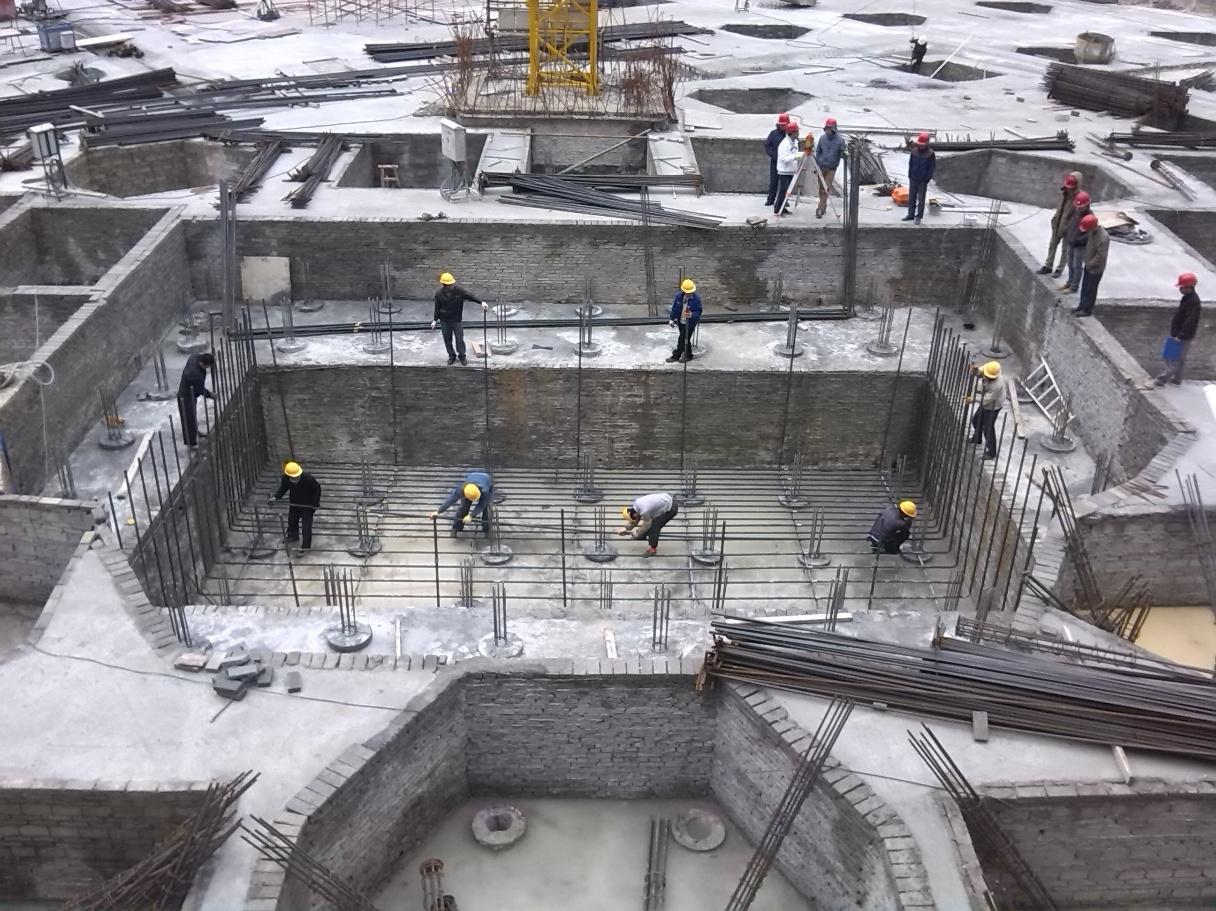helmet: (1165, 260, 1198, 390), (1170, 267, 1200, 293), (901, 497, 923, 520), (617, 508, 642, 528), (983, 360, 1002, 384), (439, 270, 463, 286), (781, 122, 809, 135), (1075, 184, 1092, 205), (914, 132, 939, 145), (465, 481, 483, 499), (286, 459, 304, 476), (1058, 171, 1076, 188), (677, 277, 694, 294), (1079, 213, 1100, 226), (776, 110, 795, 124), (816, 118, 840, 126)
no-helmet: (192, 349, 217, 369)
no-vest: (286, 475, 322, 512), (443, 284, 471, 324), (1084, 230, 1110, 272), (677, 286, 702, 325), (1177, 301, 1200, 342), (910, 150, 935, 187), (877, 509, 900, 541), (184, 357, 202, 395), (782, 142, 802, 176), (823, 134, 843, 168), (639, 493, 671, 513), (985, 373, 1003, 405), (1070, 211, 1088, 239), (1056, 198, 1070, 230), (465, 471, 490, 488), (768, 135, 781, 153)
person: (426, 264, 506, 379), (259, 450, 332, 554), (618, 477, 695, 572), (660, 263, 722, 363), (154, 344, 211, 452), (430, 464, 505, 545), (956, 340, 1016, 439), (854, 484, 925, 564), (812, 112, 867, 195), (742, 105, 786, 207), (1074, 224, 1118, 313), (895, 131, 942, 207), (1067, 189, 1106, 275), (770, 120, 803, 209), (1053, 164, 1076, 284)
